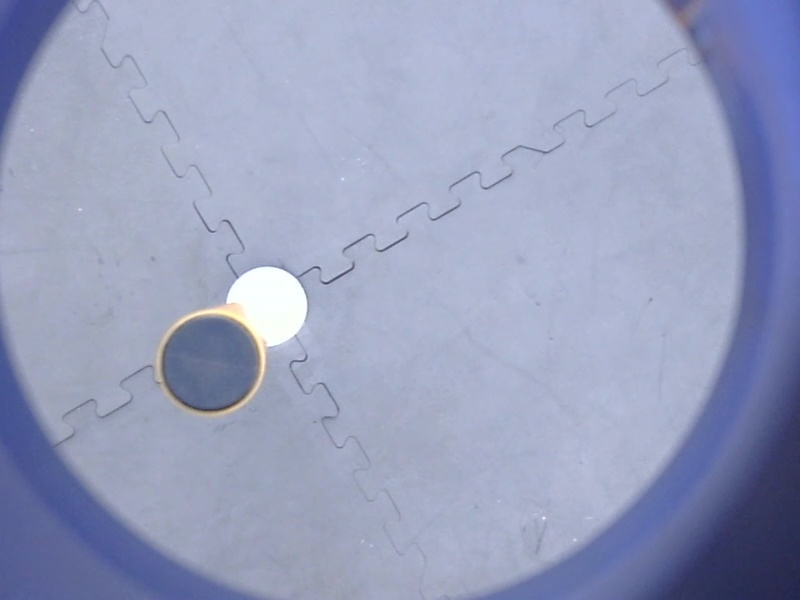tip: (149, 303, 273, 425)
